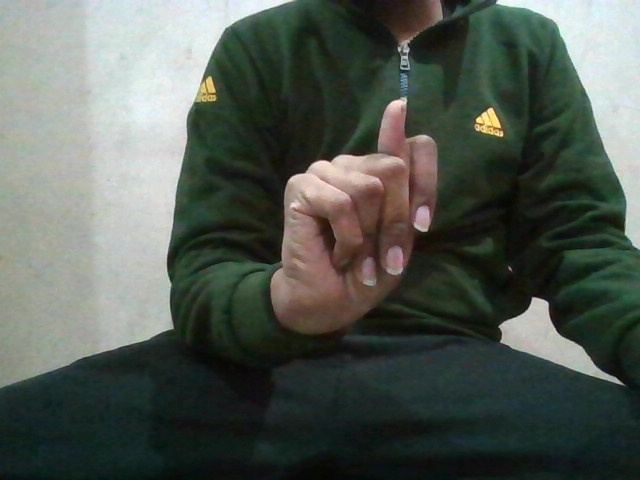T: (273, 95, 450, 320)
